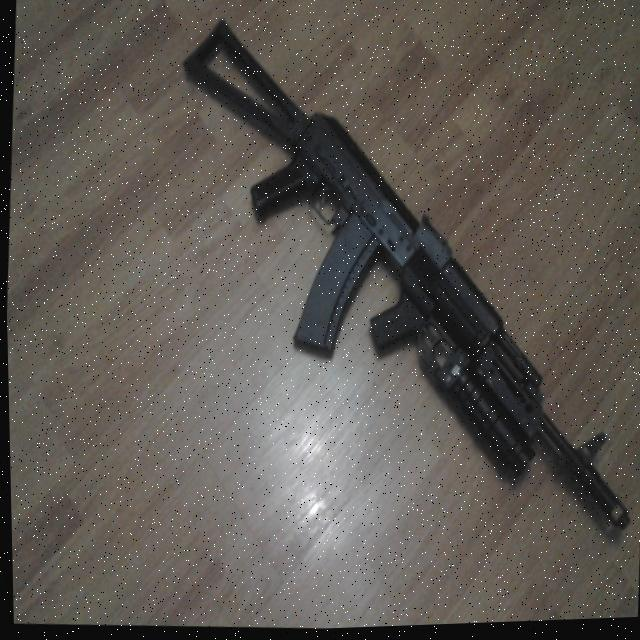firearm: (153, 2, 640, 551)
